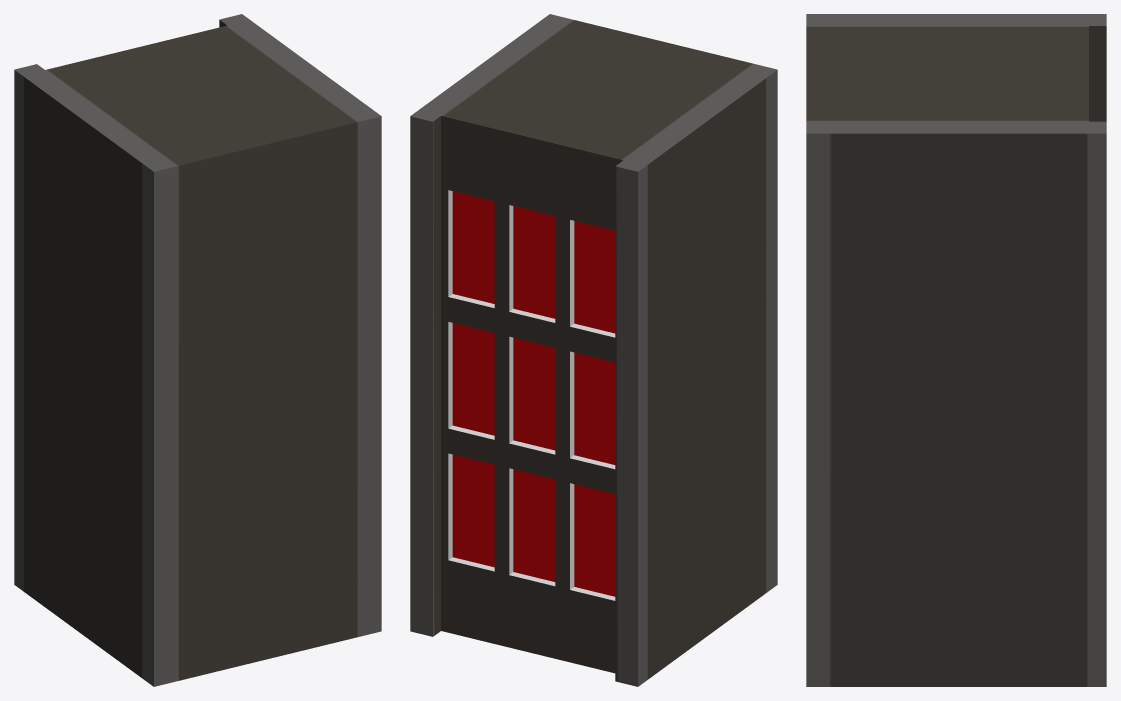
Rendered from bomb_bill.gltf.
3 renders of one model, left to right at view 1: azimuth 30°, elevation 25°; view 2: azimuth 150°, elevation 25°; view 3: azimuth 270°, elevation 25°, orthographic. The views are drawn at different scales.
Visible parts, largest first — view 1: bomb_bill; view 2: bomb_bill; view 3: bomb_bill.
Part boxes in pixels (box(x1,y1,x2,y2)): bomb_bill: box(14, 14, 381, 686); bomb_bill: box(410, 14, 777, 686); bomb_bill: box(806, 14, 1106, 686).
Size of the model in its own units: 1.66 by 3.58 by 1.76.
Materials: 1 (1 with a texture image).
